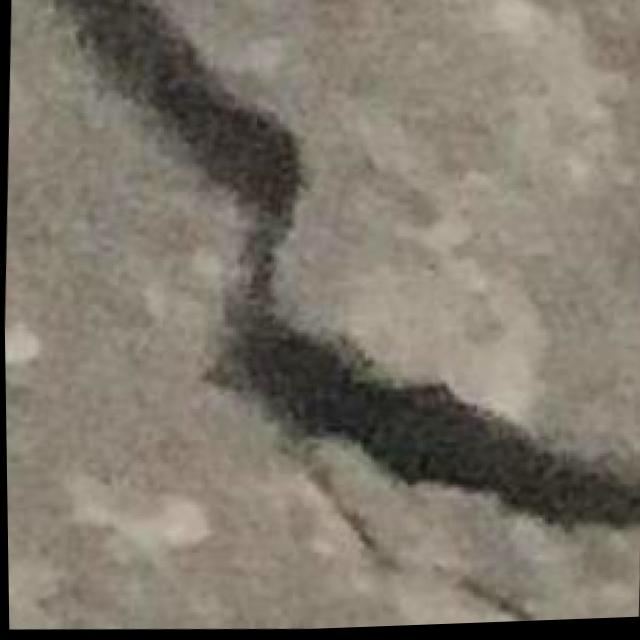Crack: (0, 6, 640, 639)
